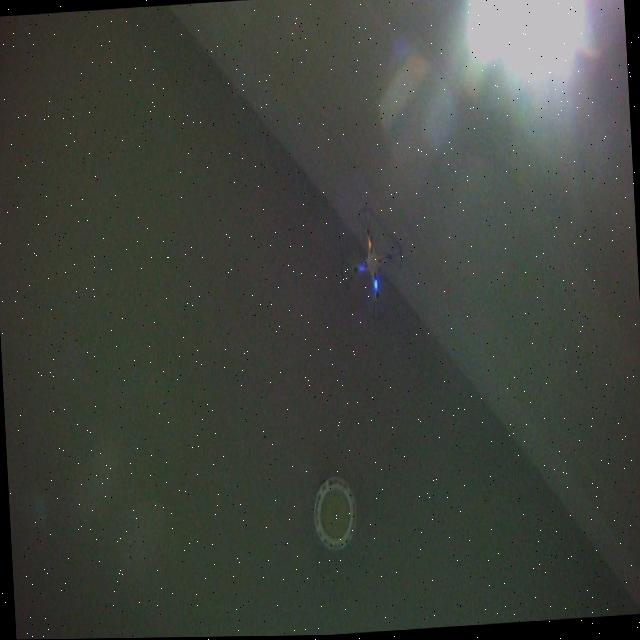drone: (337, 202, 408, 326)
